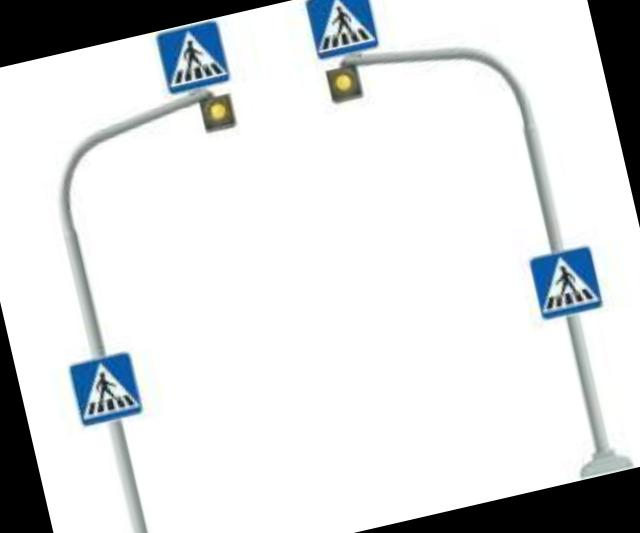crosswalk-sign: (65, 350, 144, 429), (153, 18, 232, 95), (527, 243, 604, 322), (303, 1, 382, 60)
